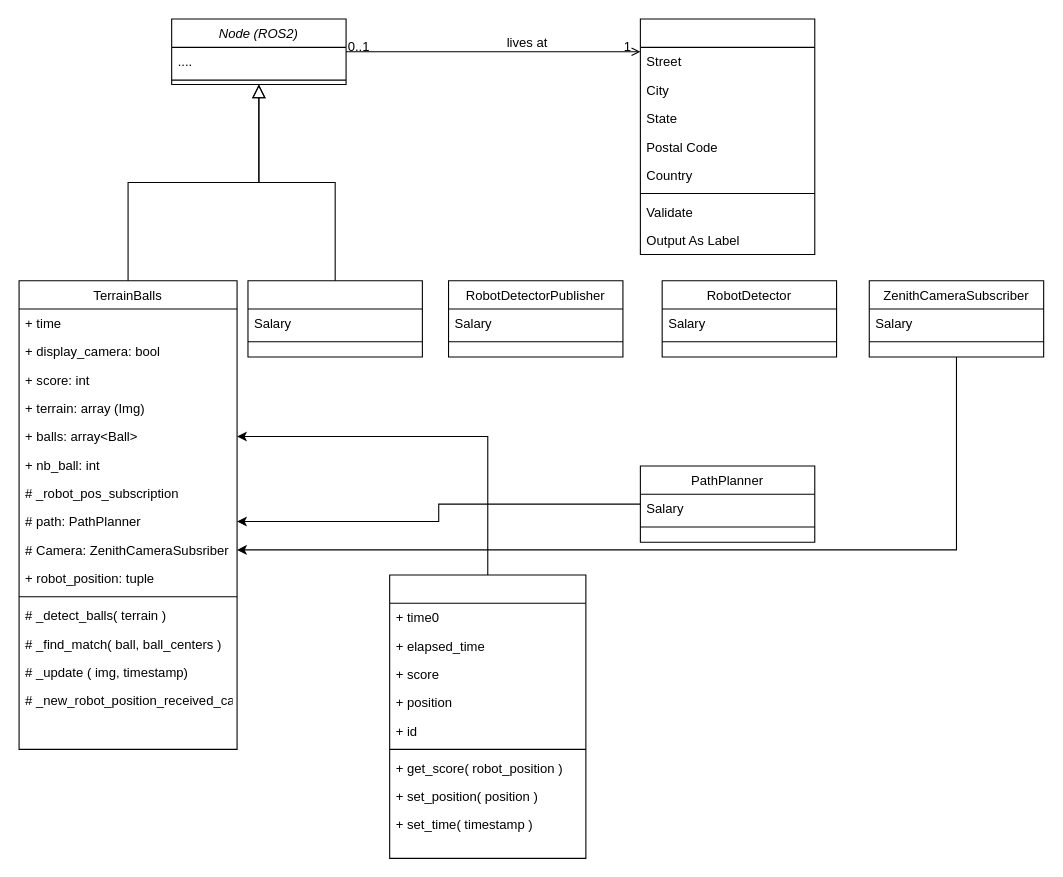
The diagram is 1063 pixels wide and 877 high, and some of its shapes have lost their labels. The shapes that lost their labels are listed below. From the top down, each one's box as (x1, y1, x2, y2) in pixels, then its label:
(639, 18, 815, 255): Address
(247, 280, 422, 357): PathPointPublisher
(389, 574, 586, 858): Ball
